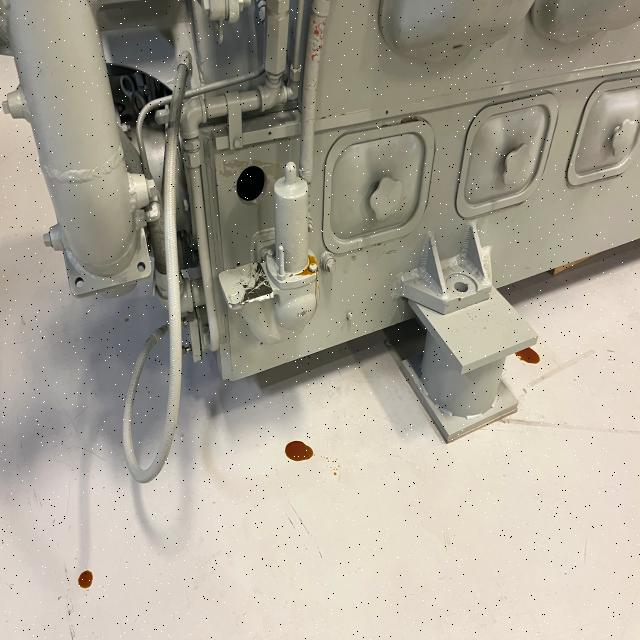Oil Leak: (281, 436, 316, 468), (515, 343, 542, 370), (297, 253, 319, 277), (76, 568, 95, 590)
